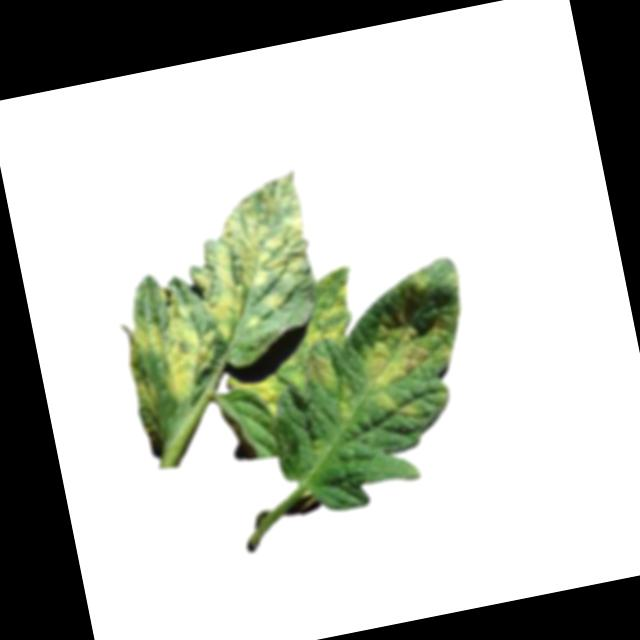Leaf_Mold: (185, 169, 326, 344), (352, 292, 466, 423), (117, 286, 223, 409), (297, 277, 357, 346), (229, 372, 284, 426), (298, 346, 338, 397)
